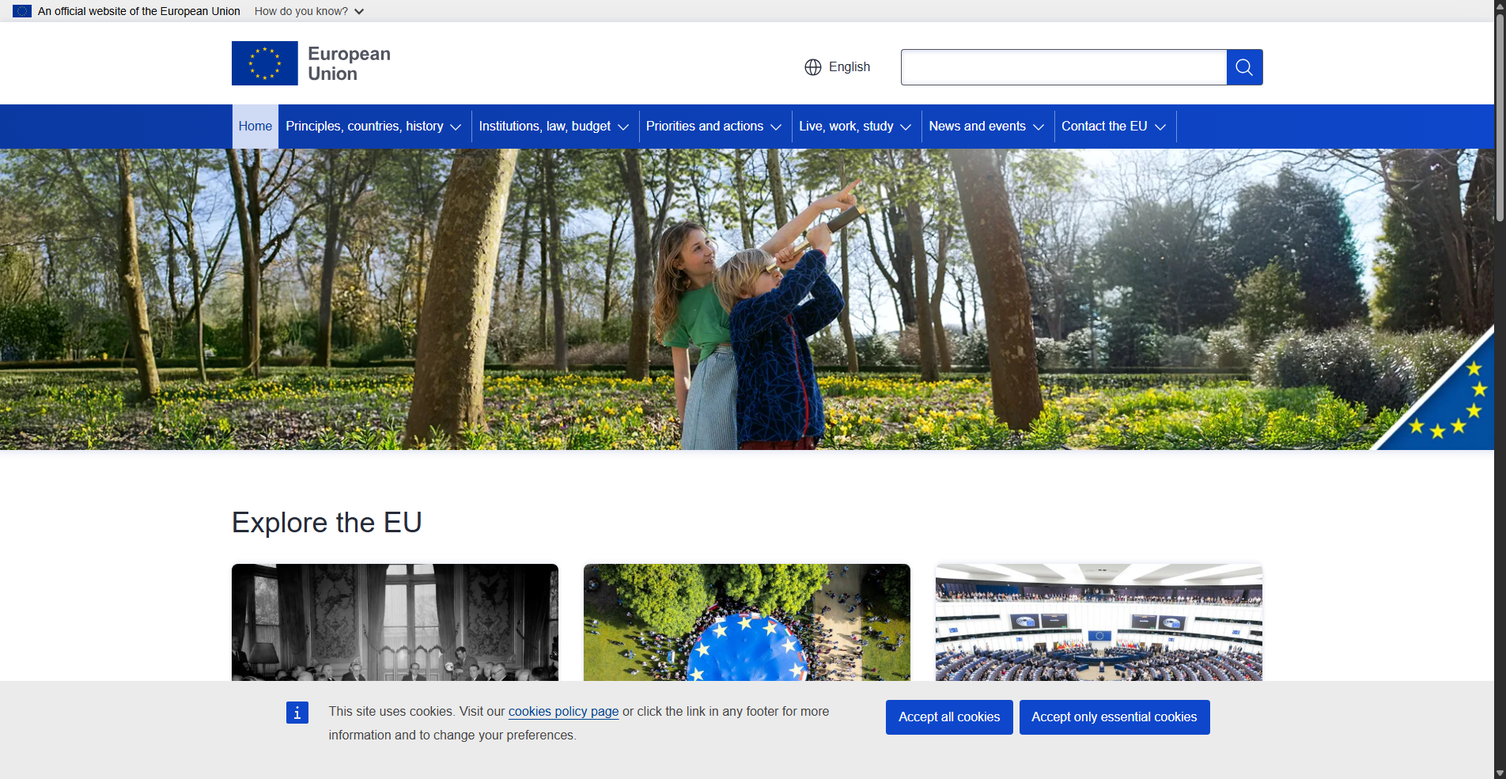button: (1019, 700, 1210, 735), (886, 700, 1013, 735), (793, 50, 882, 85), (247, 0, 372, 22), (1226, 49, 1263, 85), (446, 104, 472, 149), (896, 104, 922, 149), (614, 104, 639, 149), (767, 104, 792, 149), (1029, 104, 1054, 149), (1151, 104, 1176, 149), (1235, 58, 1254, 77), (1032, 120, 1045, 133), (450, 120, 462, 133), (617, 120, 629, 133), (770, 120, 782, 133), (900, 120, 912, 133), (1154, 120, 1166, 133), (1234, 67, 1235, 68)
input: (901, 49, 1226, 85)
label: (900, 48, 901, 49)
link: (279, 188, 473, 245), (792, 492, 964, 549), (792, 549, 964, 606), (1054, 264, 1226, 321), (1054, 321, 1226, 378), (1054, 378, 1226, 435), (922, 188, 1093, 245), (279, 104, 446, 149), (279, 150, 473, 188), (279, 245, 473, 283), (279, 283, 473, 321), (279, 321, 473, 359), (279, 359, 473, 397), (279, 397, 473, 435), (279, 435, 473, 473), (279, 473, 473, 511), (231, 41, 390, 85), (792, 150, 964, 188), (792, 188, 964, 226), (792, 226, 964, 264), (792, 264, 964, 302), (792, 302, 964, 340), (792, 340, 964, 378), (792, 378, 964, 416), (792, 416, 964, 454), (792, 454, 964, 492), (1054, 150, 1226, 188), (1054, 188, 1226, 226), (1054, 226, 1226, 264), (1054, 435, 1226, 473), (1054, 473, 1226, 511), (1054, 511, 1226, 549), (472, 150, 643, 188), (472, 188, 643, 226), (472, 226, 643, 264), (472, 264, 643, 302), (472, 302, 643, 340), (639, 150, 810, 188), (639, 188, 810, 226), (639, 226, 810, 264), (922, 150, 1093, 188), (922, 245, 1093, 283), (922, 283, 1093, 321), (473, 104, 614, 149), (640, 104, 767, 149), (923, 104, 1029, 149), (793, 104, 896, 149), (1055, 104, 1151, 149), (232, 104, 279, 149), (508, 705, 619, 718), (18, 18, 53, 53)
